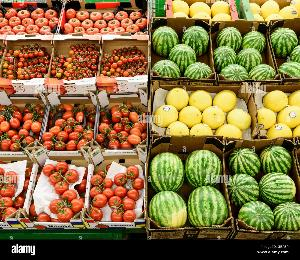melon: (150, 76, 255, 138), (252, 82, 300, 136), (158, 0, 300, 16)
tomato: (90, 153, 146, 225), (36, 154, 92, 223), (36, 99, 96, 153), (95, 95, 147, 153), (59, 3, 149, 36), (0, 157, 34, 227), (0, 94, 39, 154), (48, 40, 99, 84), (0, 43, 49, 86), (1, 1, 56, 38), (100, 41, 150, 79)
watermelon: (154, 137, 230, 233), (228, 140, 300, 232), (150, 18, 214, 76), (212, 23, 274, 73), (270, 21, 300, 81)
